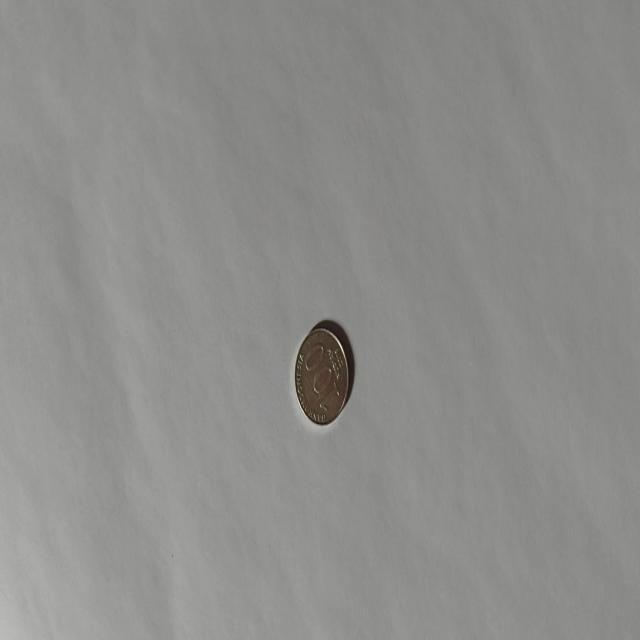seratus rupiah: (294, 324, 349, 426)
